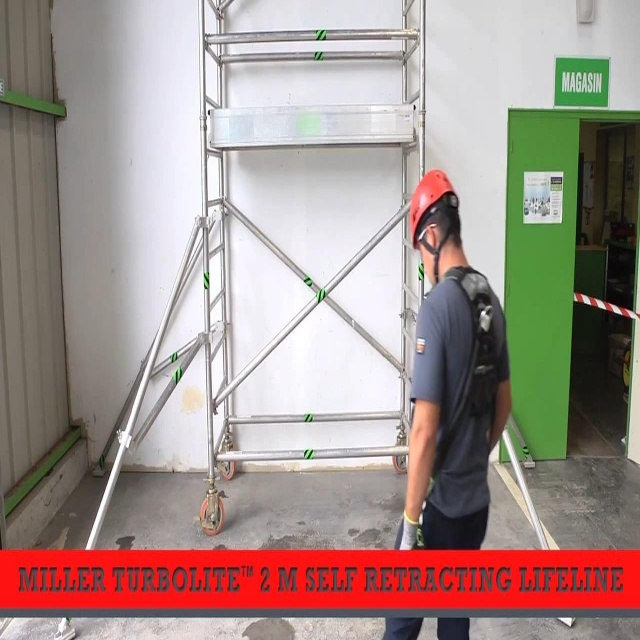Arnes_seguridad: (419, 252, 503, 495)
